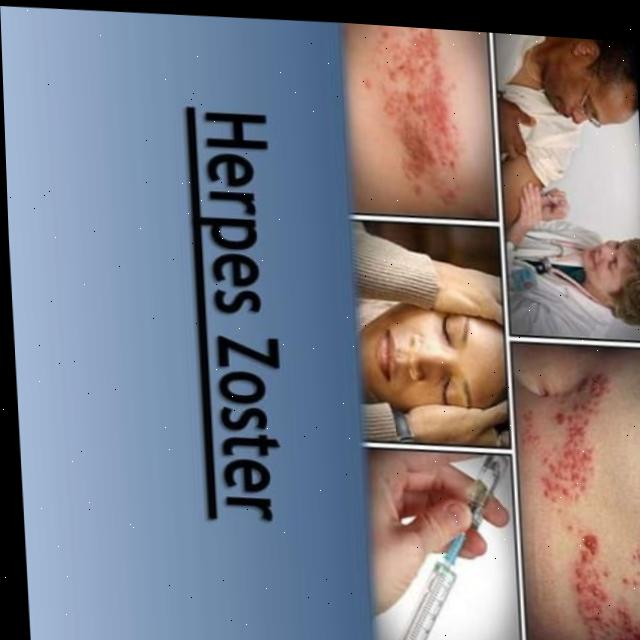Shingles: (361, 24, 462, 207), (515, 362, 623, 506), (568, 528, 640, 640)
